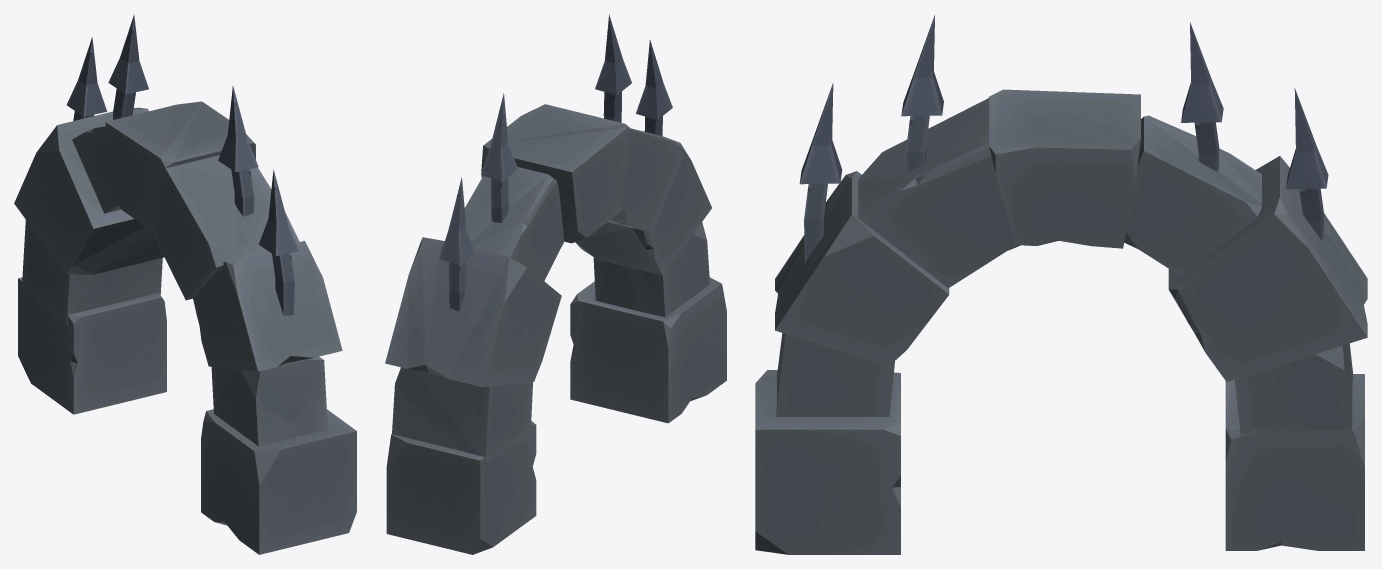
The model's file is WallEntrance2B-004_40_15_8941.fbx.
3 views of the same model, side by side, from view 1: azimuth 30°, elevation 25°; view 2: azimuth 150°, elevation 25°; view 3: azimuth 270°, elevation 25° (orthographic). The views are drawn at different scales.
Parts seen in each view (by area): view 1: Arch, 2B_Fence1_001 (1), 2B_Fence1_001 (3), 2B_Fence1_001 (4), 2B_Fence1_001 (2); view 2: Arch, 2B_Fence1_001 (2), 2B_Fence1_001 (4), 2B_Fence1_001 (3), 2B_Fence1_001 (1); view 3: Arch, 2B_Fence1_001 (1), 2B_Fence1_001 (3), 2B_Fence1_001 (4), 2B_Fence1_001 (2).
Part boxes in pixels (<box>): Arch: <box>14,101,356,554</box>; 2B_Fence1_001 (1): <box>258,169,299,315</box>; 2B_Fence1_001 (3): <box>218,86,258,216</box>; 2B_Fence1_001 (4): <box>108,14,148,119</box>; 2B_Fence1_001 (2): <box>66,37,107,120</box>; Arch: <box>385,104,726,554</box>; 2B_Fence1_001 (2): <box>439,177,475,311</box>; 2B_Fence1_001 (4): <box>481,93,517,222</box>; 2B_Fence1_001 (3): <box>595,14,631,122</box>; 2B_Fence1_001 (1): <box>635,39,672,135</box>; Arch: <box>755,89,1367,554</box>; 2B_Fence1_001 (1): <box>799,83,842,262</box>; 2B_Fence1_001 (3): <box>901,15,943,172</box>; 2B_Fence1_001 (4): <box>1181,22,1223,171</box>; 2B_Fence1_001 (2): <box>1286,88,1328,241</box>.
Size of the model in its own units: 1.38 by 5.47 by 5.96.
